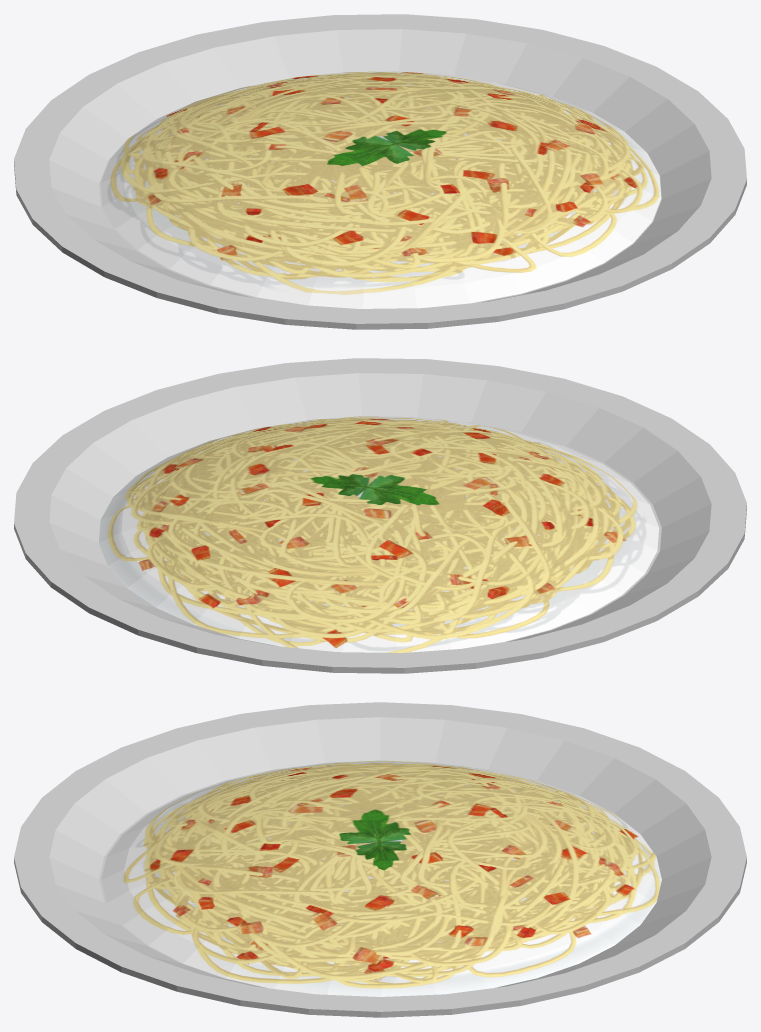
Rendered from noodles2.glb.
3 views of the same model, one above another, from view 1: azimuth 30°, elevation 25°; view 2: azimuth 150°, elevation 25°; view 3: azimuth 270°, elevation 25° (orthographic).
Visible parts, largest first — view 1: Cylinder, Sphere; view 2: Cylinder, Sphere; view 3: Cylinder, Sphere.
Part boxes in pixels (x1,y1,x2,y2): Cylinder: [100, 71, 661, 308]; Sphere: [14, 14, 746, 329]; Cylinder: [99, 416, 659, 652]; Sphere: [14, 358, 746, 673]; Cylinder: [101, 760, 661, 996]; Sphere: [14, 702, 746, 1017].
Bounding box in the file's own units: 5.52 × 0.409 × 5.52.
2 materials, 1 textured.
